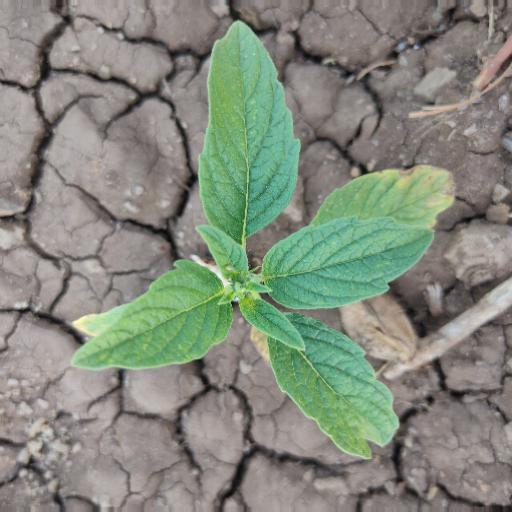crop: (61, 23, 456, 458)
